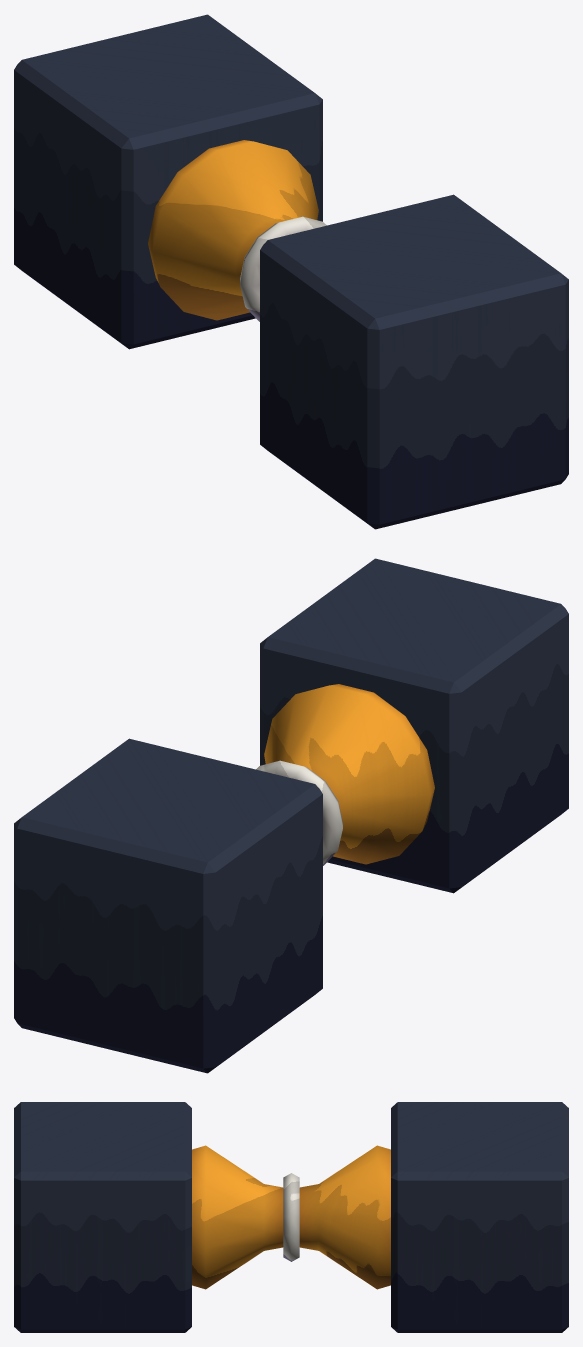
The model's file is R4C_STRUT_STANDARD_LOD1.glb.
3 views of the same model, one above another, from view 1: azimuth 30°, elevation 25°; view 2: azimuth 150°, elevation 25°; view 3: azimuth 270°, elevation 25° (orthographic). The views are drawn at different scales.
Visible parts, largest first — view 1: R4C_STRUT_STANDARD_LOD1; view 2: R4C_STRUT_STANDARD_LOD1; view 3: R4C_STRUT_STANDARD_LOD1.
Boxes of the visible parts, x1,y1,x2,y2 form: R4C_STRUT_STANDARD_LOD1: [14, 14, 568, 529]; R4C_STRUT_STANDARD_LOD1: [14, 558, 568, 1073]; R4C_STRUT_STANDARD_LOD1: [14, 1102, 568, 1332].
Bounding box in the file's own units: 0.52 × 0.52 × 1.62.
3 materials, 3 textured.
